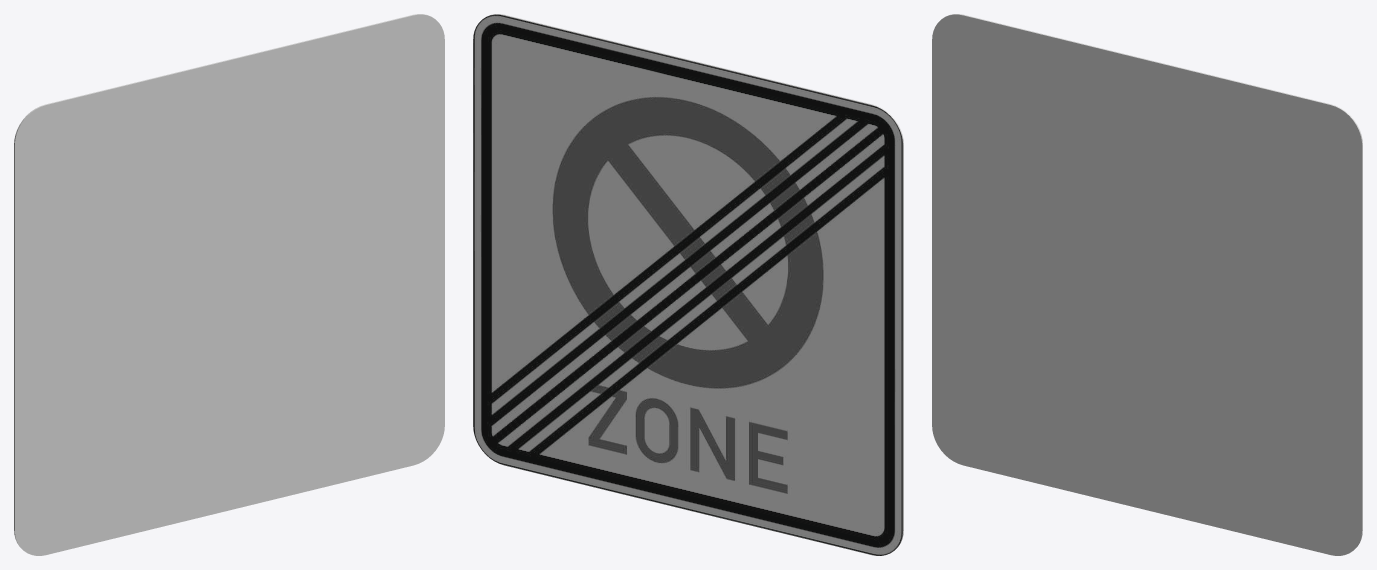
3 views of the same model, side by side, from view 1: azimuth 30°, elevation 25°; view 2: azimuth 150°, elevation 25°; view 3: azimuth 330°, elevation 25° (orthographic).
Visible parts, largest first — view 1: Plane; view 2: Plane; view 3: Plane.
Boxes of the visible parts, left/top/right/bottom form: Plane: left=14, top=14, right=444, bottom=555; Plane: left=473, top=14, right=903, bottom=555; Plane: left=932, top=14, right=1362, bottom=555.
Size of the model in its own units: 0.6 by 0.6 by 0.002.
Materials: 2 (1 with a texture image).
